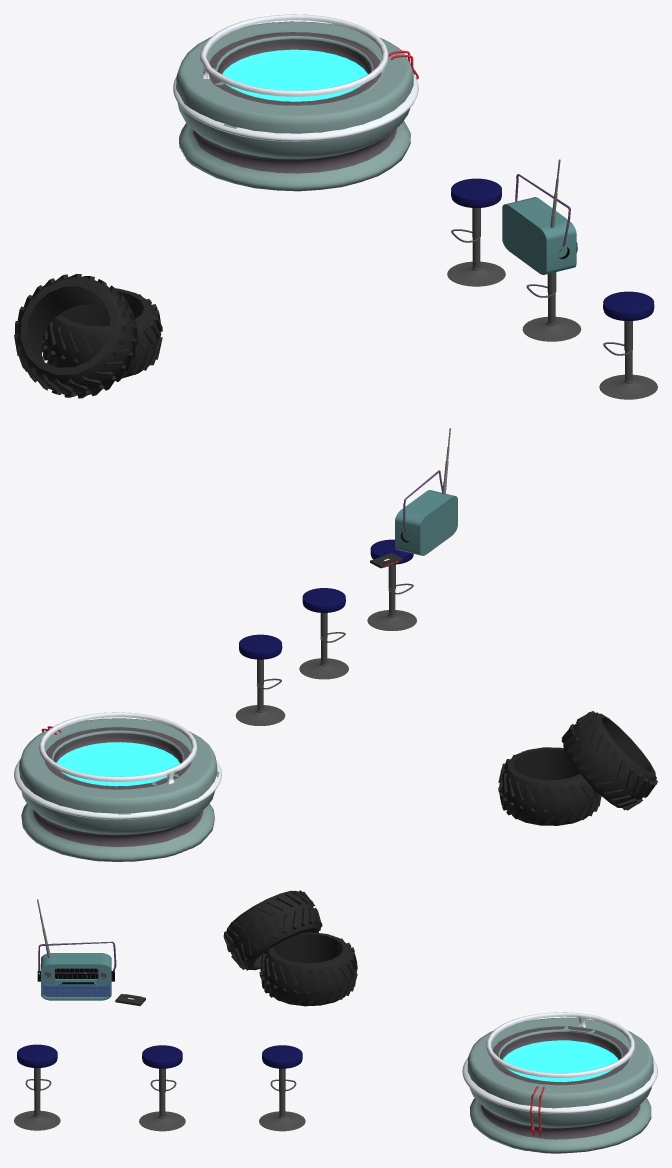
File: Decors2.glb
The picture shows the model from 3 angles, top to bottom: view 1: azimuth 30°, elevation 25°; view 2: azimuth 150°, elevation 25°; view 3: azimuth 270°, elevation 25°; orthographic projection. The views are drawn at different scales.
Visible parts, largest first — view 1: HologramBase, Debris_Tires, radio, Stool2, Stool2.002, Stool2.001; view 2: HologramBase, Debris_Tires, radio, Stool2.001, Stool2, Stool2.002; view 3: HologramBase, Debris_Tires, radio, Stool2.001, Stool2.002, Stool2.
Part boxes in pixels (x1=…): HologramBase: x1=173, y1=14, x2=418, y2=191; Debris_Tires: x1=14, y1=274, x2=162, y2=398; radio: x1=502, y1=159, x2=576, y2=274; Stool2: x1=447, y1=178, x2=505, y2=286; Stool2.002: x1=599, y1=291, x2=657, y2=399; Stool2.001: x1=522, y1=242, x2=581, y2=341; HologramBase: x1=14, y1=712, x2=221, y2=861; Debris_Tires: x1=498, y1=711, x2=657, y2=825; radio: x1=395, y1=428, x2=457, y2=555; Stool2.001: x1=299, y1=588, x2=348, y2=679; Stool2: x1=235, y1=634, x2=285, y2=725; Stool2.002: x1=367, y1=539, x2=416, y2=630; HologramBase: x1=462, y1=1012, x2=657, y2=1153; Debris_Tires: x1=223, y1=890, x2=357, y2=1006; radio: x1=37, y1=899, x2=116, y2=1000; Stool2.001: x1=139, y1=1045, x2=185, y2=1131; Stool2.002: x1=14, y1=1044, x2=60, y2=1130; Stool2: x1=259, y1=1045, x2=305, y2=1131.
Size of the model in its own units: 9.41 by 4.12 by 11.79.
